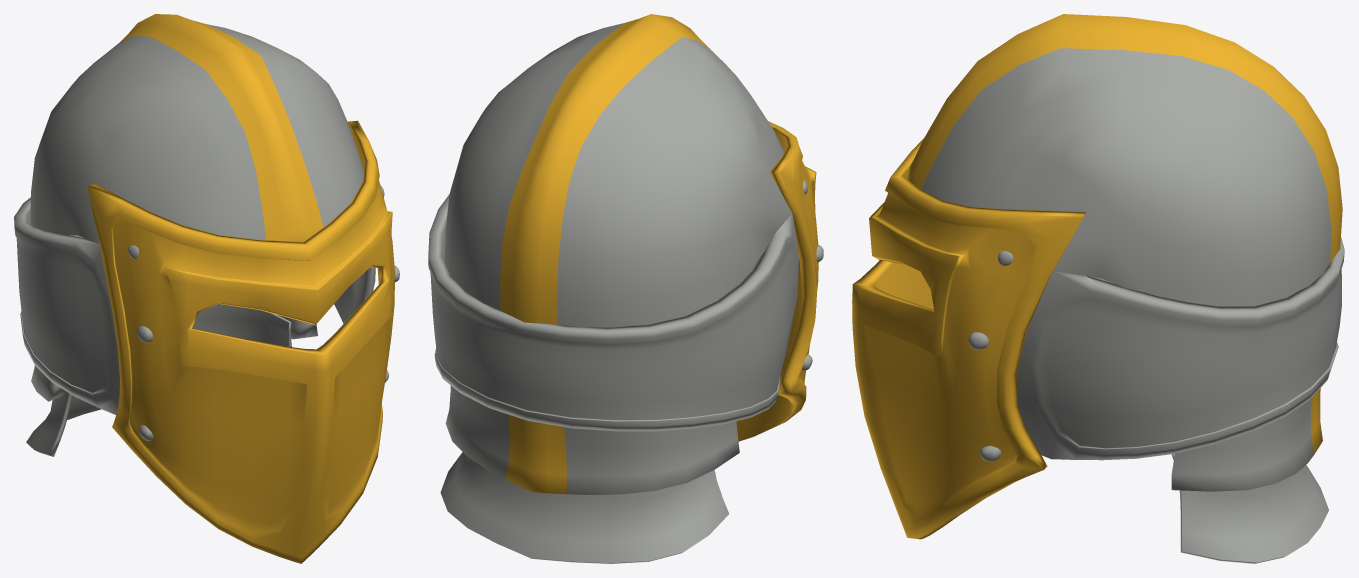
Rendered from Hemlet_2.fbx.
3 views of the same model, side by side, from view 1: azimuth 30°, elevation 25°; view 2: azimuth 150°, elevation 25°; view 3: azimuth 270°, elevation 25° (orthographic). The views are drawn at different scales.
Parts seen in each view (by area): view 1: Hemlet_2; view 2: Hemlet_2; view 3: Hemlet_2.
Part boxes in pixels (box(x1,y1,x2,y2)): Hemlet_2: box(14, 14, 399, 563); Hemlet_2: box(428, 14, 823, 563); Hemlet_2: box(852, 14, 1344, 563).
Bounding box in the file's own units: 61.19 × 88.21 × 75.
